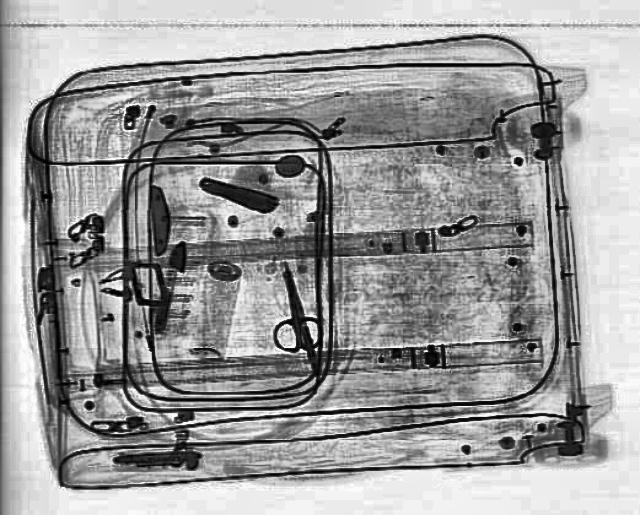Scissors: (260, 270, 324, 352)
